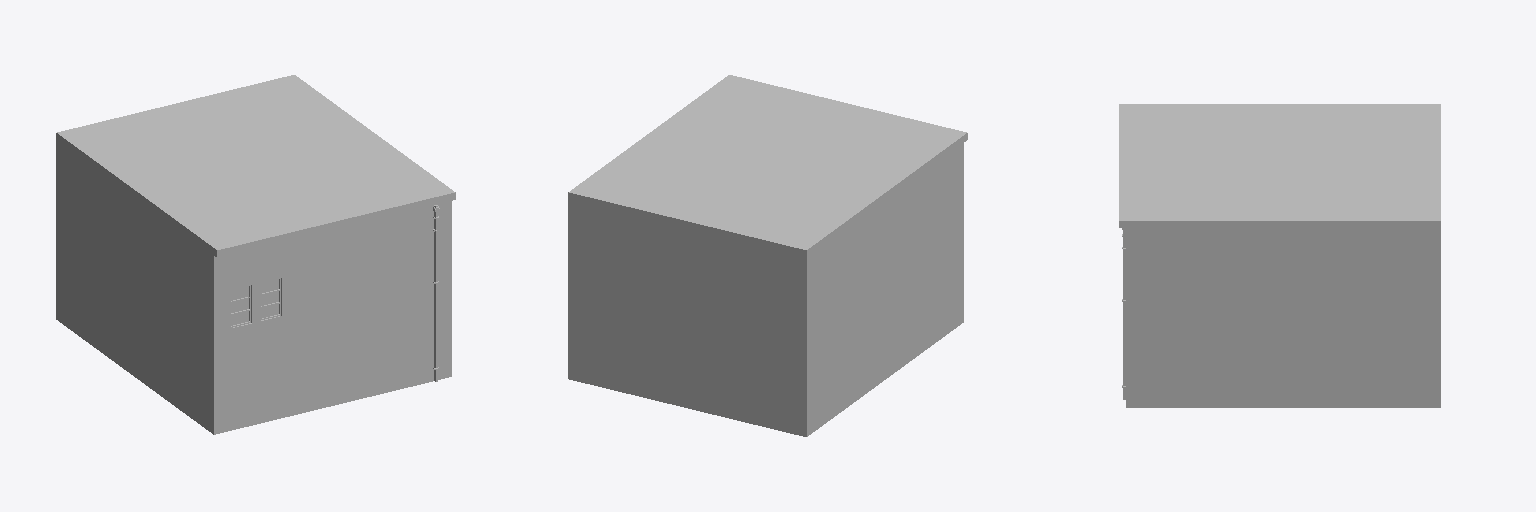
Rendered from Building 7.4.obj.
3 views of the same model, side by side, from view 1: azimuth 30°, elevation 25°; view 2: azimuth 150°, elevation 25°; view 3: azimuth 270°, elevation 25° (orthographic).
Visible parts, largest first — view 1: object 1; view 2: object 1; view 3: object 1.
Part boxes in pixels (left/top/right/bottom): object 1: left=56, top=75, right=455, bottom=434; object 1: left=568, top=75, right=967, bottom=436; object 1: left=1119, top=104, right=1440, bottom=407.
Size of the model in its own units: 20 by 15 by 23.4.